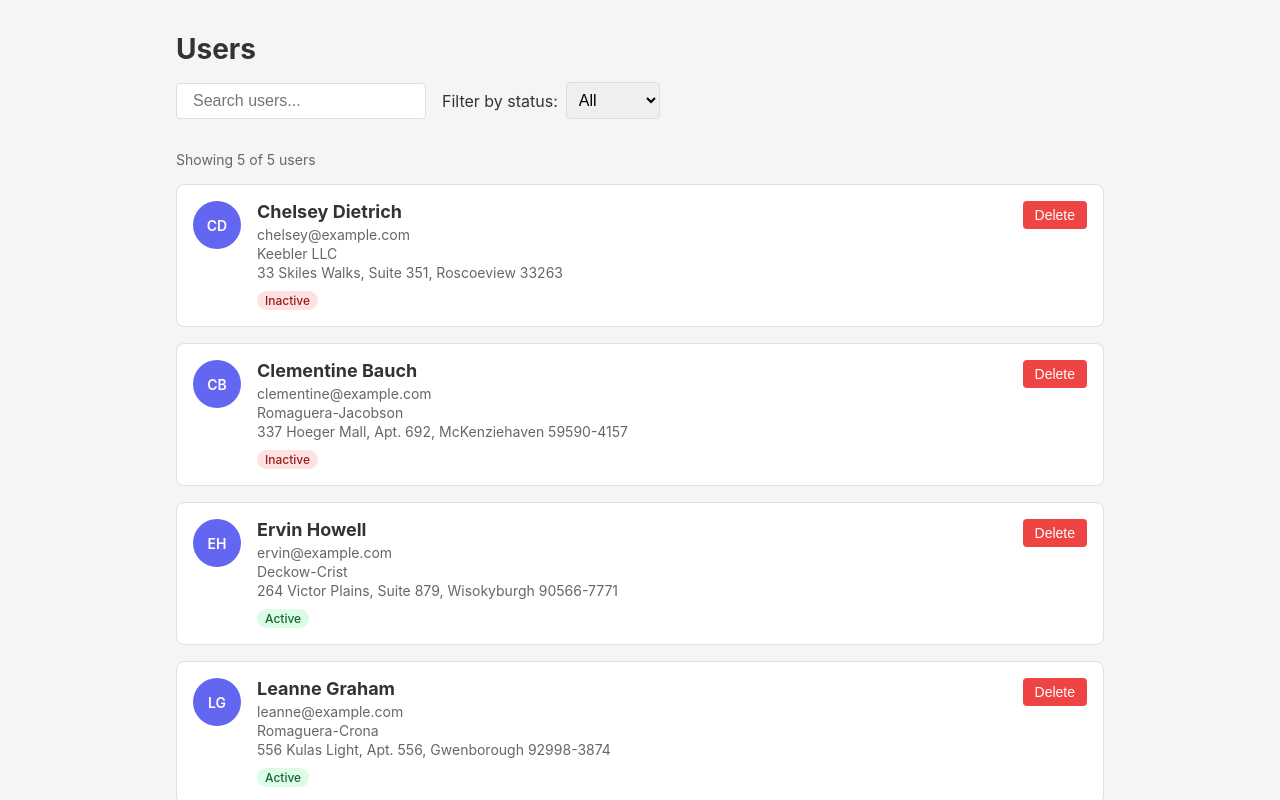
Test: UsersPage › filters users by search term
Check: the heading "Leanne Graham" is shown, box [257,678,395,699]
Note: Type in search - the debounce will fire after 300ms (real time)
Type "leanne" into the search field labelled "Search users" at (301, 100), box [176,82,426,118]
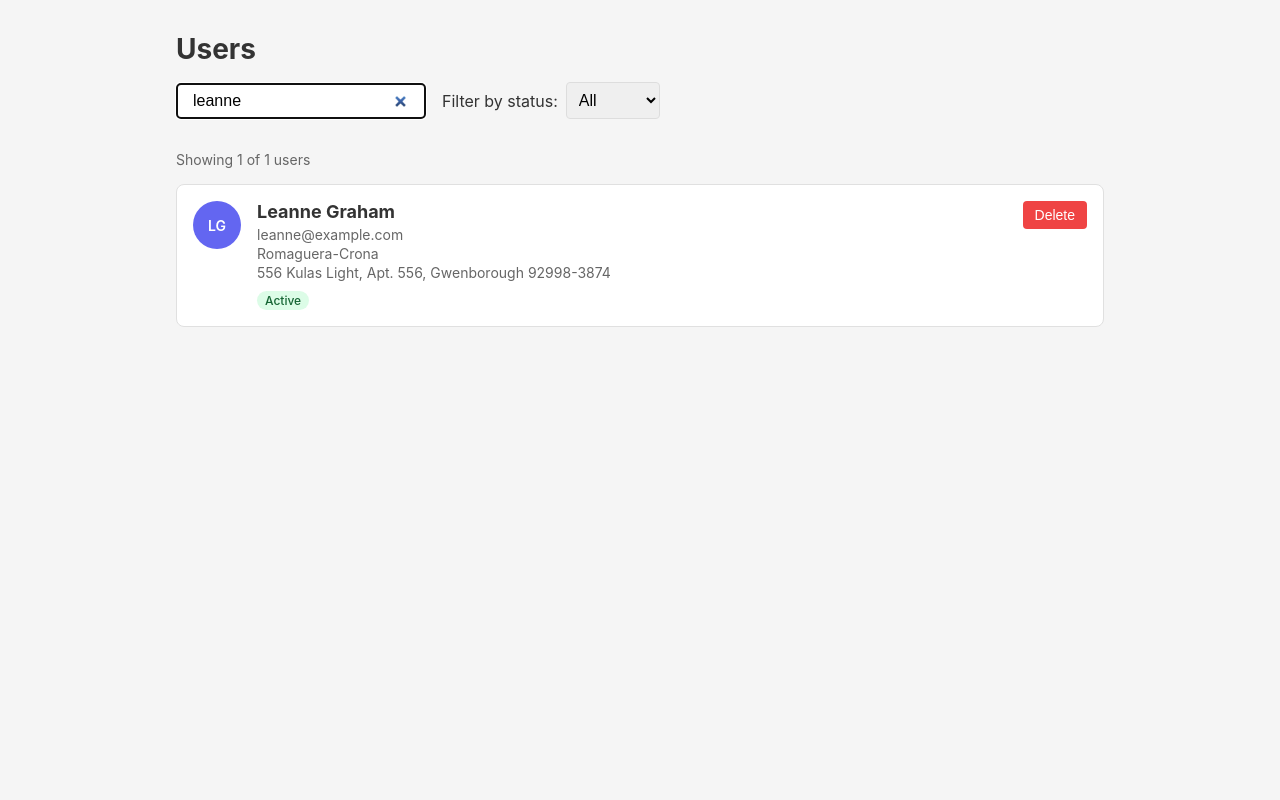
Check: the heading "Leanne Graham" is shown, box [257,201,395,222]
Check: the text "Showing 1 of 1 users" is shown, box [176,151,310,168]
